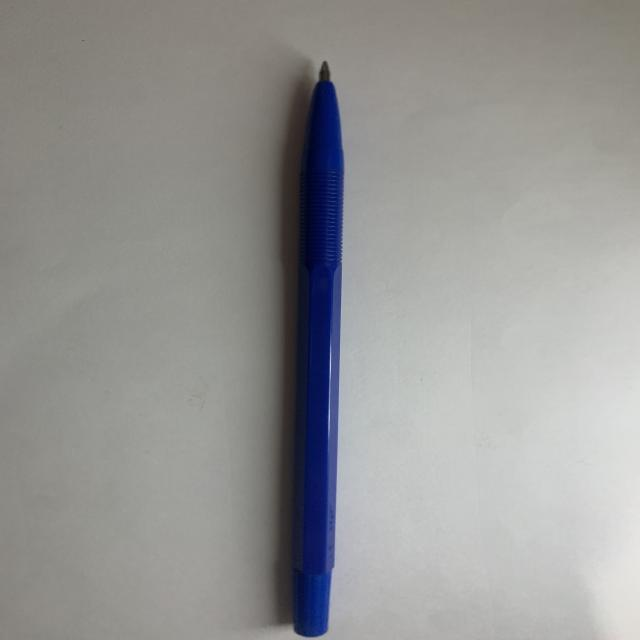Pulpen: (277, 57, 361, 640)
